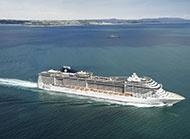youlun: (35, 57, 185, 108)
